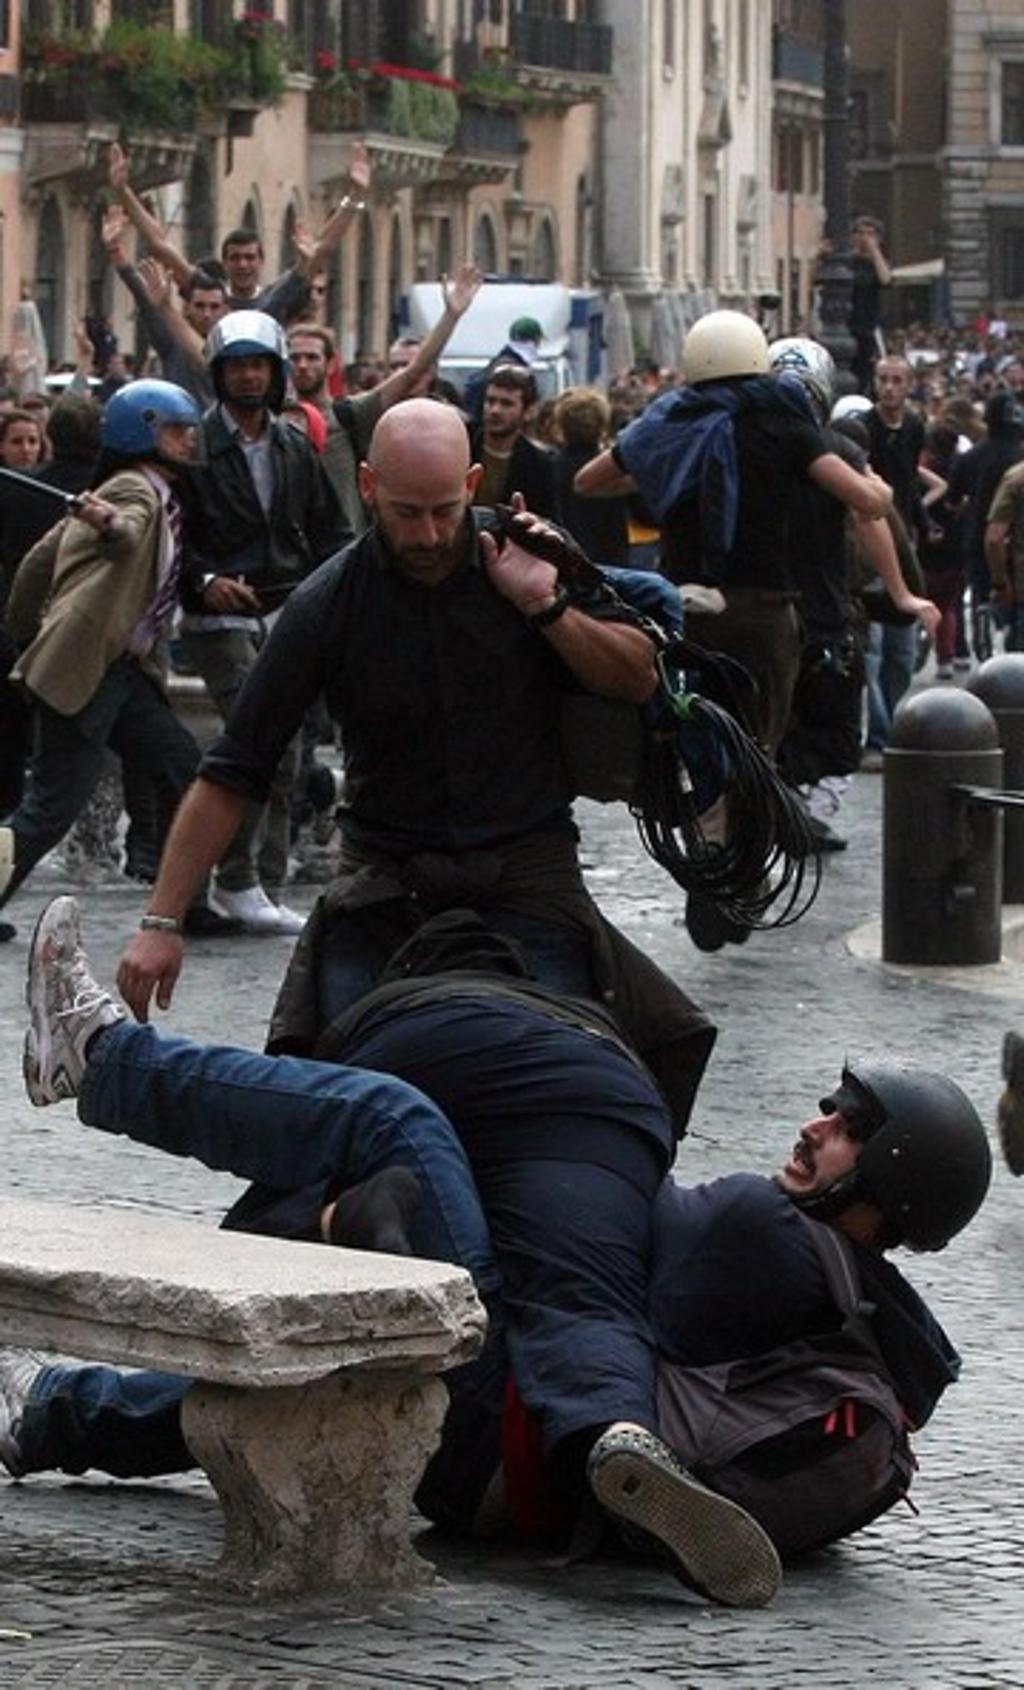face: (374, 463, 466, 574), (776, 1097, 878, 1195), (223, 354, 270, 407), (286, 343, 327, 390), (390, 350, 429, 393), (484, 392, 523, 435), (156, 419, 191, 464), (226, 249, 260, 287), (5, 431, 39, 470), (193, 298, 223, 333), (877, 373, 907, 403), (307, 276, 334, 303), (856, 228, 875, 251), (29, 417, 49, 435), (524, 335, 541, 357), (108, 356, 126, 375), (1007, 364, 1024, 385)
